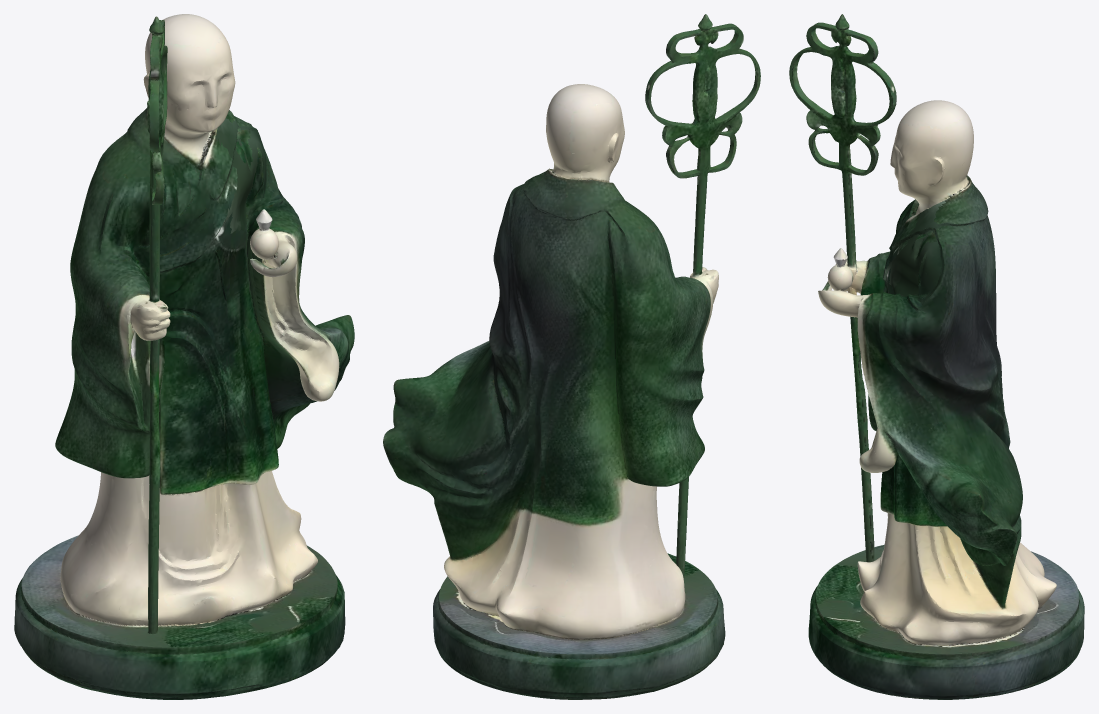
File: bishop_white.glb
3 renders of one model, left to right at view 1: azimuth 30°, elevation 25°; view 2: azimuth 150°, elevation 25°; view 3: azimuth 270°, elevation 25°, orthographic. The views are drawn at different scales.
Visible parts, largest first — view 1: model; view 2: model; view 3: model.
Part boxes in pixels (left/top/right/bottom): model: left=14, top=14, right=354, bottom=699; model: left=383, top=14, right=760, bottom=699; model: left=789, top=14, right=1084, bottom=699.
Size of the model in its own units: 0.9658 by 1.9 by 0.8574.
1 material, 1 textured.
